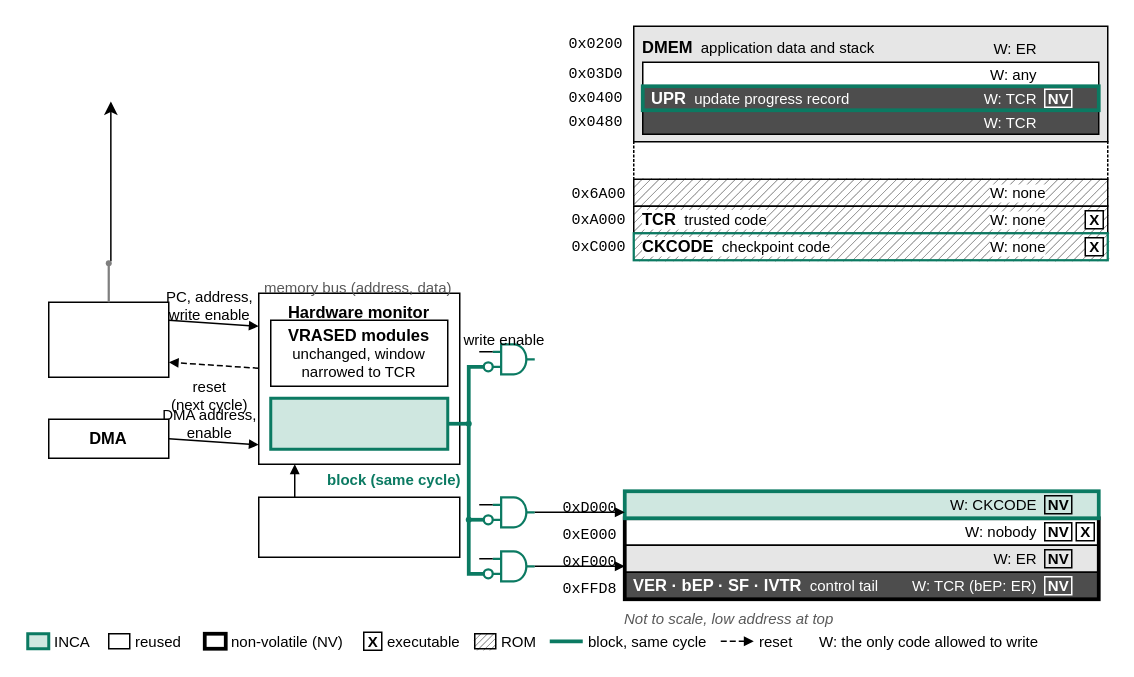
Some shapes in this 1134 by 677 pixel diagram are drawn without their labels. Here are the shapes that lost their labels. From the top down, the box of each, then its label:
(641, 61, 1099, 86): ATR token exchange
(641, 109, 1099, 134): SDATA secure stack
(632, 178, 1108, 206): KEY
(47, 301, 169, 377): openMSP430 CPU unmodified pipeline
(268, 396, 448, 450): INCA monitor (incas.v)
(622, 489, 1100, 519): CKR checkpoint slots + commit word
(257, 496, 460, 557): EP registers ER bounds, stage bounds, upd_lock
(623, 517, 1099, 545): ER (active slot) application code
(623, 544, 1099, 572): STG (other slot) staged, frozen while locked
